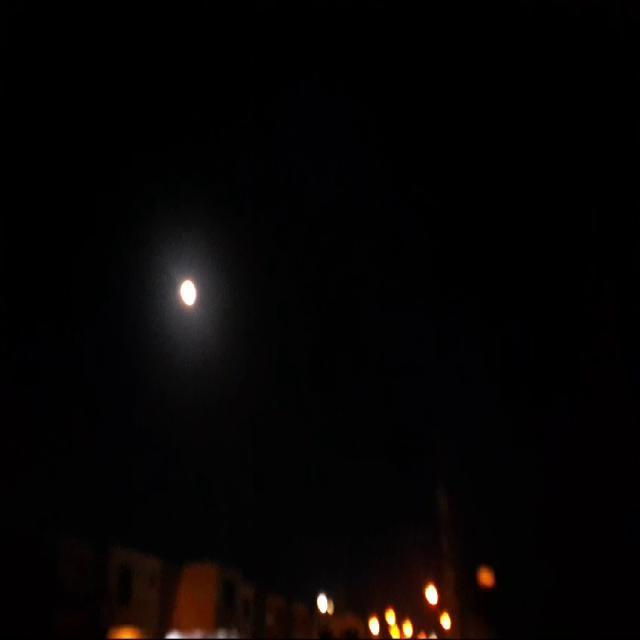moon: (177, 272, 195, 306)
